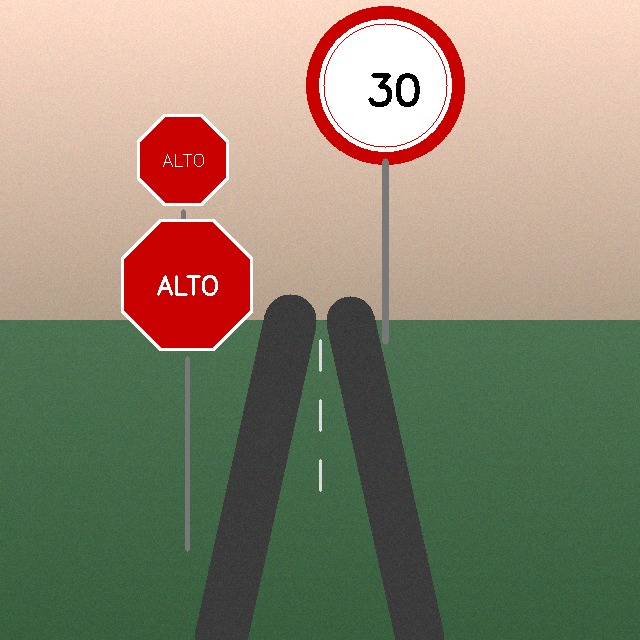alto: (115, 213, 260, 358), (133, 110, 234, 211)
velocidad: (310, 10, 461, 161)
